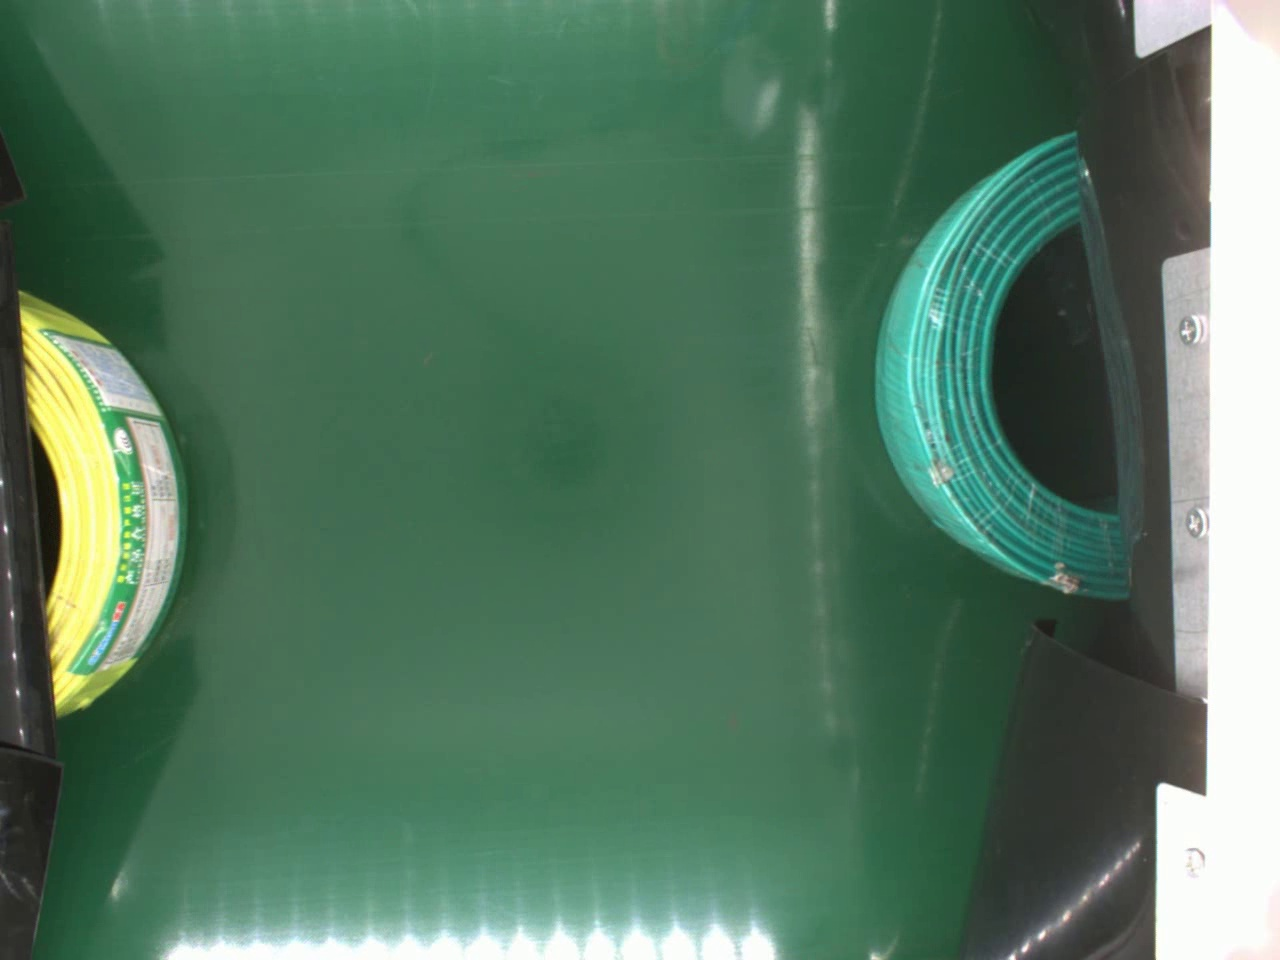green: (868, 128, 1130, 607)
